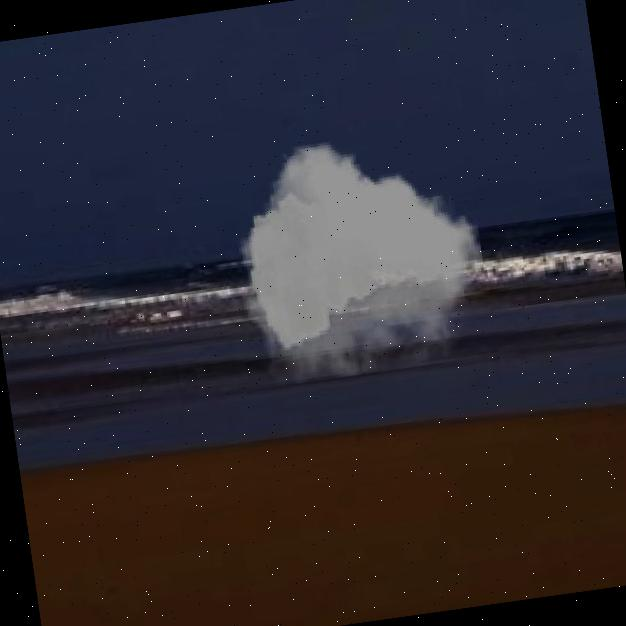smoke: (222, 122, 496, 389)
